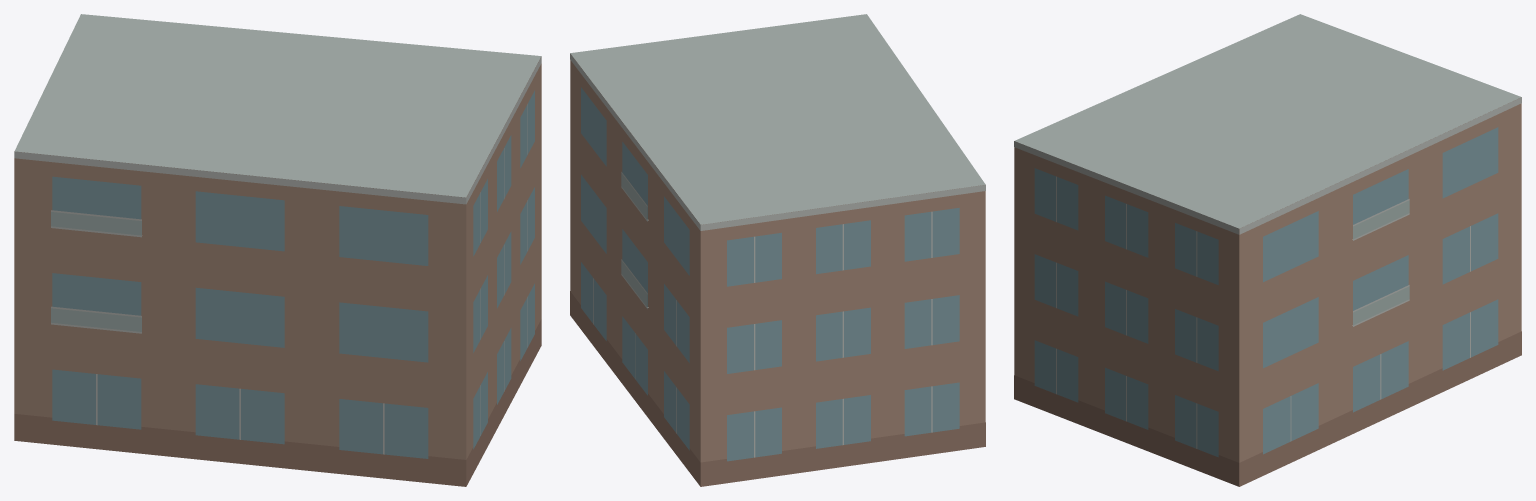
Rendered from survey-upis-32919050.glb.
3 renders of one model, left to right at view 1: azimuth 30°, elevation 25°; view 2: azimuth 150°, elevation 25°; view 3: azimuth 270°, elevation 25°, orthographic. The views are drawn at different scales.
Parts seen in each view (by area): view 1: survey-upis-32919050.tmp; view 2: survey-upis-32919050.tmp; view 3: survey-upis-32919050.tmp.
Part boxes in pixels (box(x1,y1,x2,y2)): survey-upis-32919050.tmp: box(14, 14, 541, 486); survey-upis-32919050.tmp: box(570, 14, 985, 486); survey-upis-32919050.tmp: box(1014, 14, 1521, 486).
Size of the model in its own units: 18.2 by 10.2 by 18.18.
